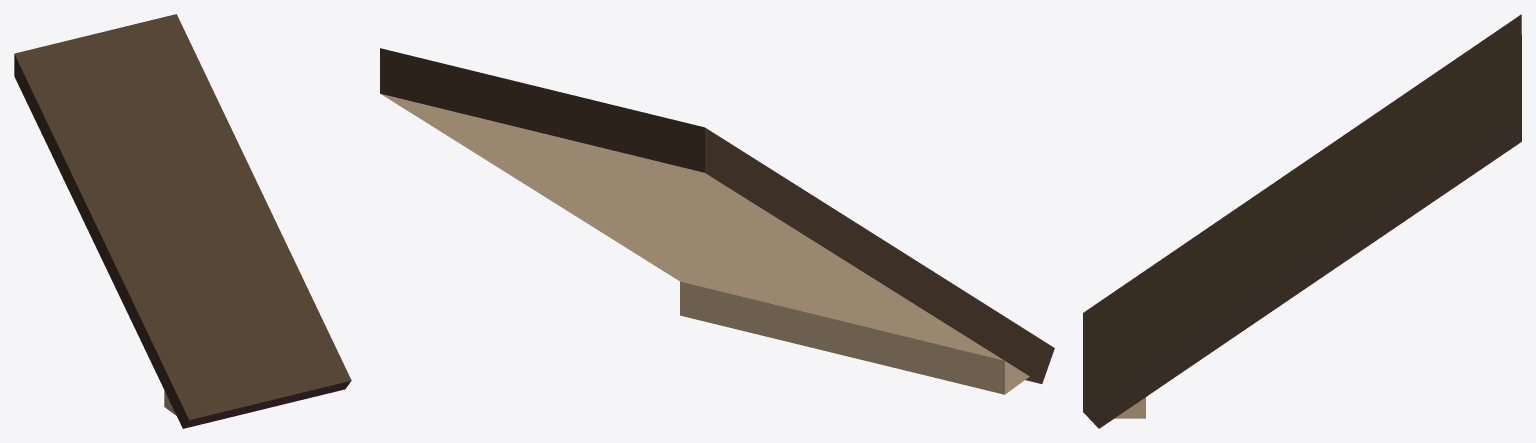
Rendered from buildings-house-roof-3x3m.glb.
The picture shows the model from 3 angles, left to right: view 1: azimuth 30°, elevation 25°; view 2: azimuth 150°, elevation 25°; view 3: azimuth 270°, elevation 25°; orthographic projection. The views are drawn at different scales.
Visible parts, largest first — view 1: house-roof-3x3m; view 2: house-roof-3x3m; view 3: house-roof-3x3m.
Boxes of the visible parts, bbox=[...] form: house-roof-3x3m: bbox=[14, 14, 351, 428]; house-roof-3x3m: bbox=[380, 48, 1054, 394]; house-roof-3x3m: bbox=[1083, 14, 1521, 428].
Size of the model in its own units: 3 by 4.45 by 5.6.
